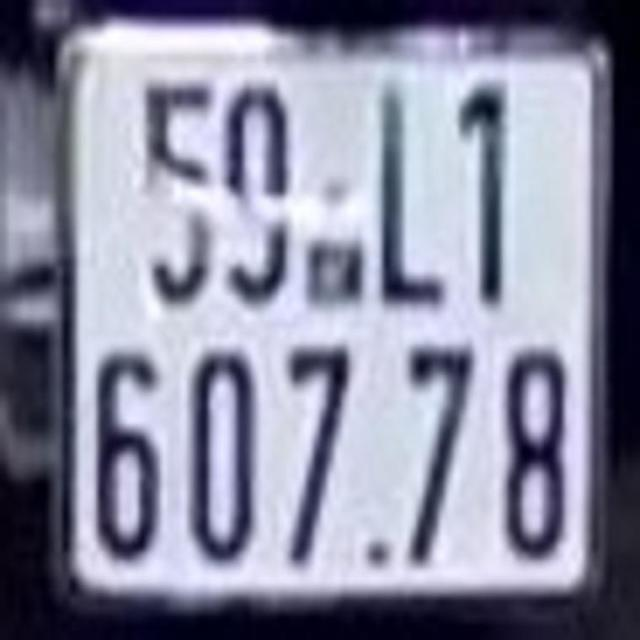0: (189, 351, 256, 562)
1: (459, 83, 510, 307)
5: (144, 83, 212, 303)
6: (95, 349, 162, 561)
7: (405, 345, 473, 565), (285, 345, 348, 566)
8: (506, 350, 566, 560)
9: (225, 87, 290, 304)
L: (377, 88, 449, 304)
